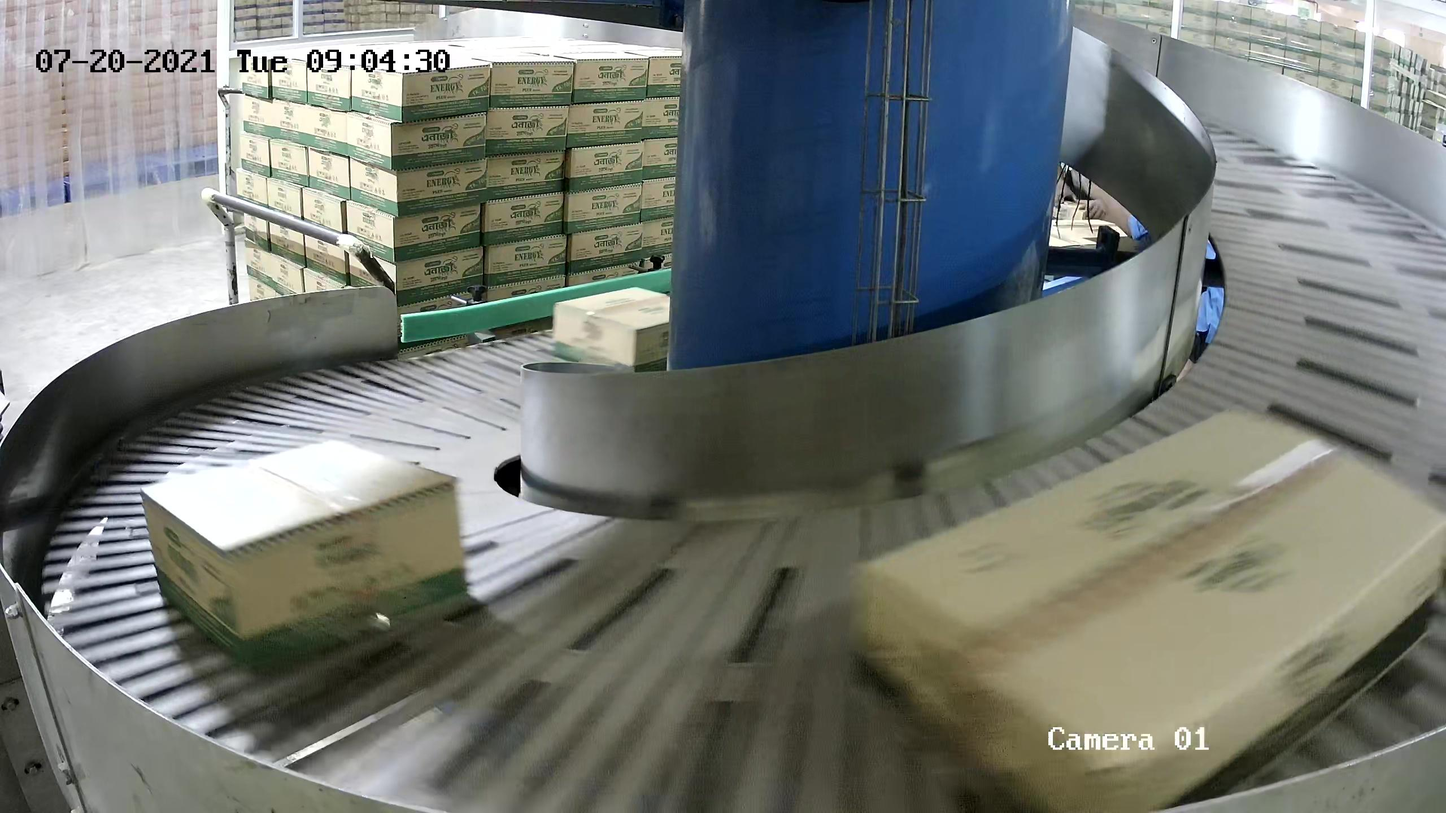Box: (845, 401, 1446, 813), (139, 437, 471, 672), (552, 286, 671, 374)
